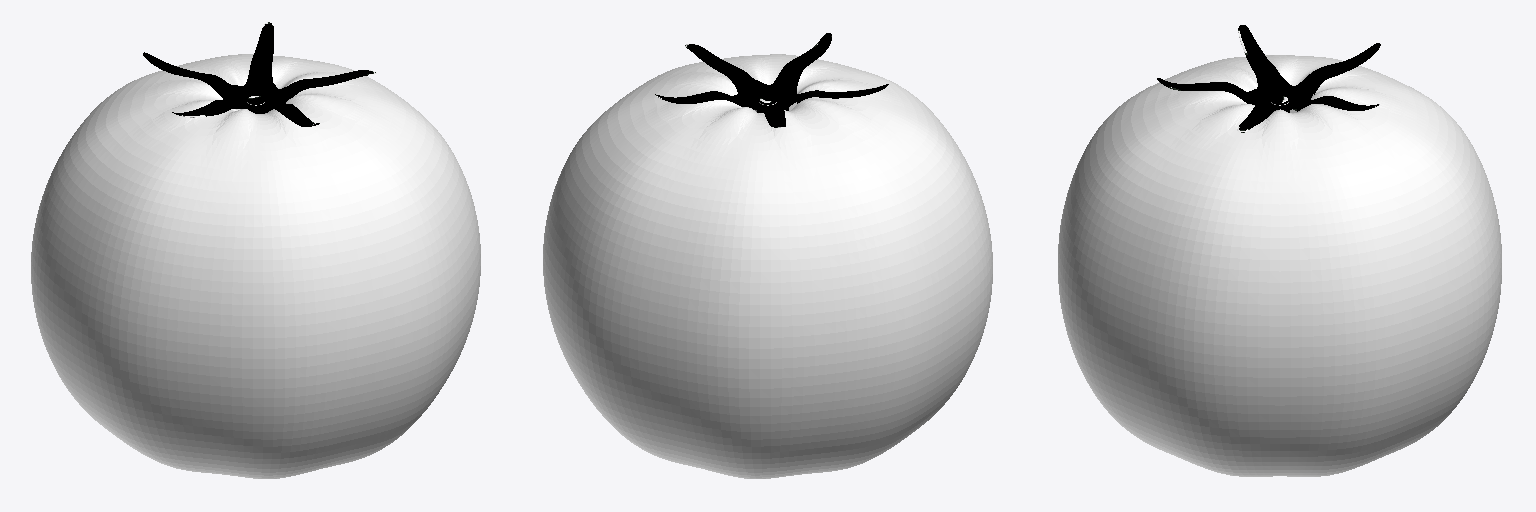
The picture shows the model from 3 angles: view 1: azimuth 30°, elevation 25°; view 2: azimuth 150°, elevation 25°; view 3: azimuth 270°, elevation 25°; orthographic projection.
Visible parts, largest first — view 1: Sphere.001, Sphere; view 2: Sphere.001, Sphere; view 3: Sphere.001, Sphere.
Boxes of the visible parts, box(x1,y1,x2,y2) form: Sphere.001: box(31, 54, 480, 478); Sphere: box(143, 22, 376, 126); Sphere.001: box(543, 54, 992, 478); Sphere: box(655, 33, 888, 127); Sphere.001: box(1058, 55, 1501, 476); Sphere: box(1157, 25, 1380, 132).
Size of the model in its own units: 0.0923 by 0.0833 by 0.0923.
1 materials, 1 textured.